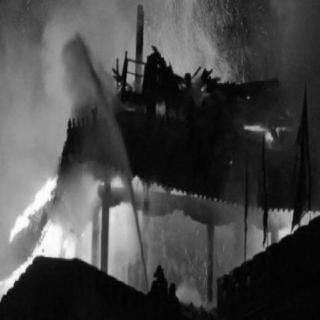Fire: (16, 141, 306, 311)
